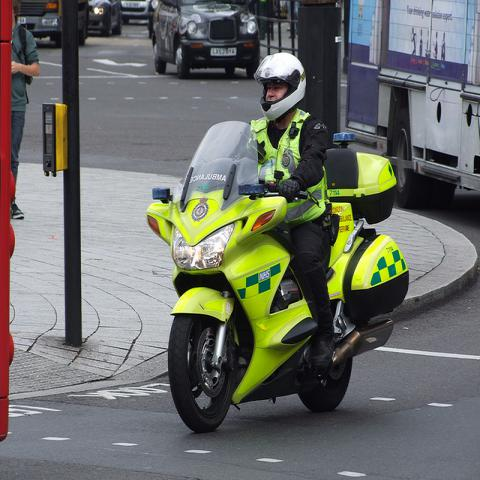bus: (296, 3, 480, 207)
car: (88, 1, 123, 36), (122, 0, 150, 24)
motorcycle: (145, 121, 409, 420)
truck: (345, 0, 479, 218), (150, 0, 262, 80)
